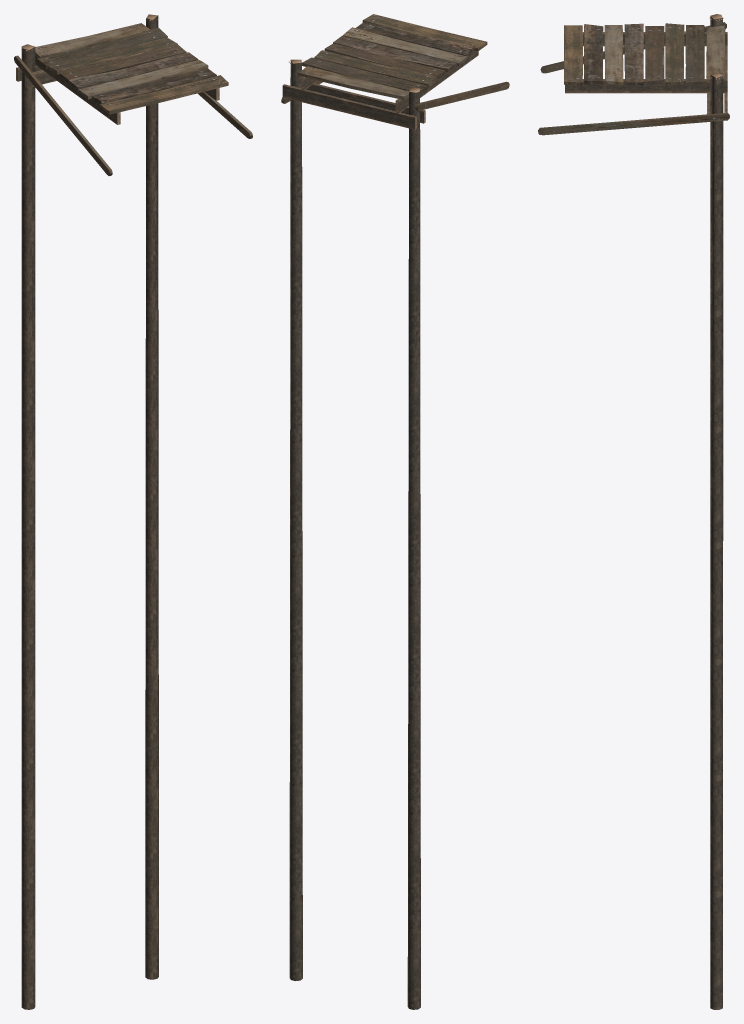
File: wooden_walkway_large_300.glb
The picture shows the model from 3 angles, left to right: view 1: azimuth 30°, elevation 25°; view 2: azimuth 150°, elevation 25°; view 3: azimuth 270°, elevation 25°; orthographic projection. The views are drawn at different scales.
Parts seen in each view (by area): view 1: wooden_walkway_large_300_LOD0; view 2: wooden_walkway_large_300_LOD0; view 3: wooden_walkway_large_300_LOD0.
Boxes of the visible parts, x1,y1,x2,y2 form: wooden_walkway_large_300_LOD0: (14, 14, 252, 1009); wooden_walkway_large_300_LOD0: (281, 14, 509, 1009); wooden_walkway_large_300_LOD0: (538, 14, 729, 1009).
Size of the model in its own units: 2.93 by 18.99 by 3.54.
Materials: 2 (2 with a texture image).
